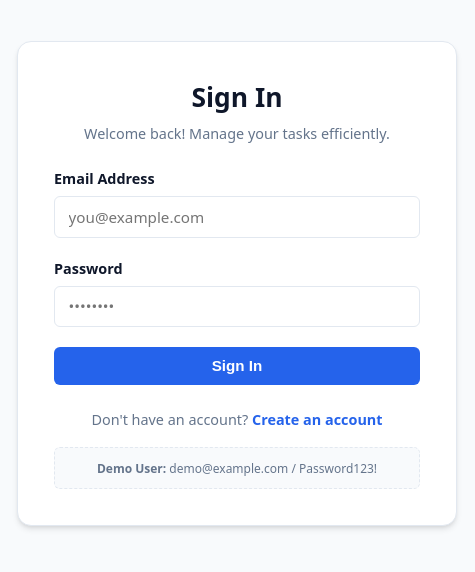
Authentication UI Components › Login Page › validates required fields on submit
This screenshot has width=475, height=572.
Click the button "Sign In" at (237, 366), box [54,347,420,385]
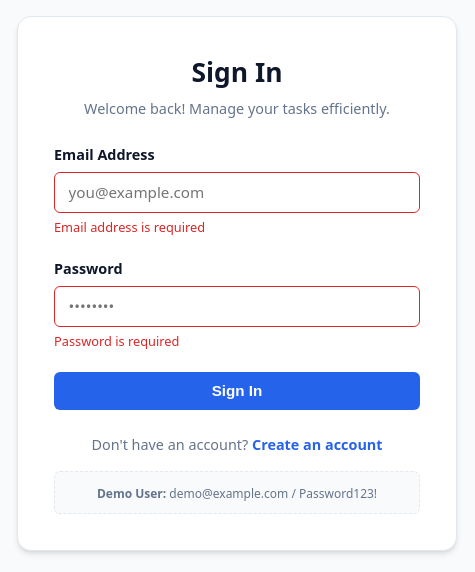
Expected: the text "Email address is required" is shown, [54,218,205,236]
Expected: the text "Password is required" is shown, [54,332,179,350]
